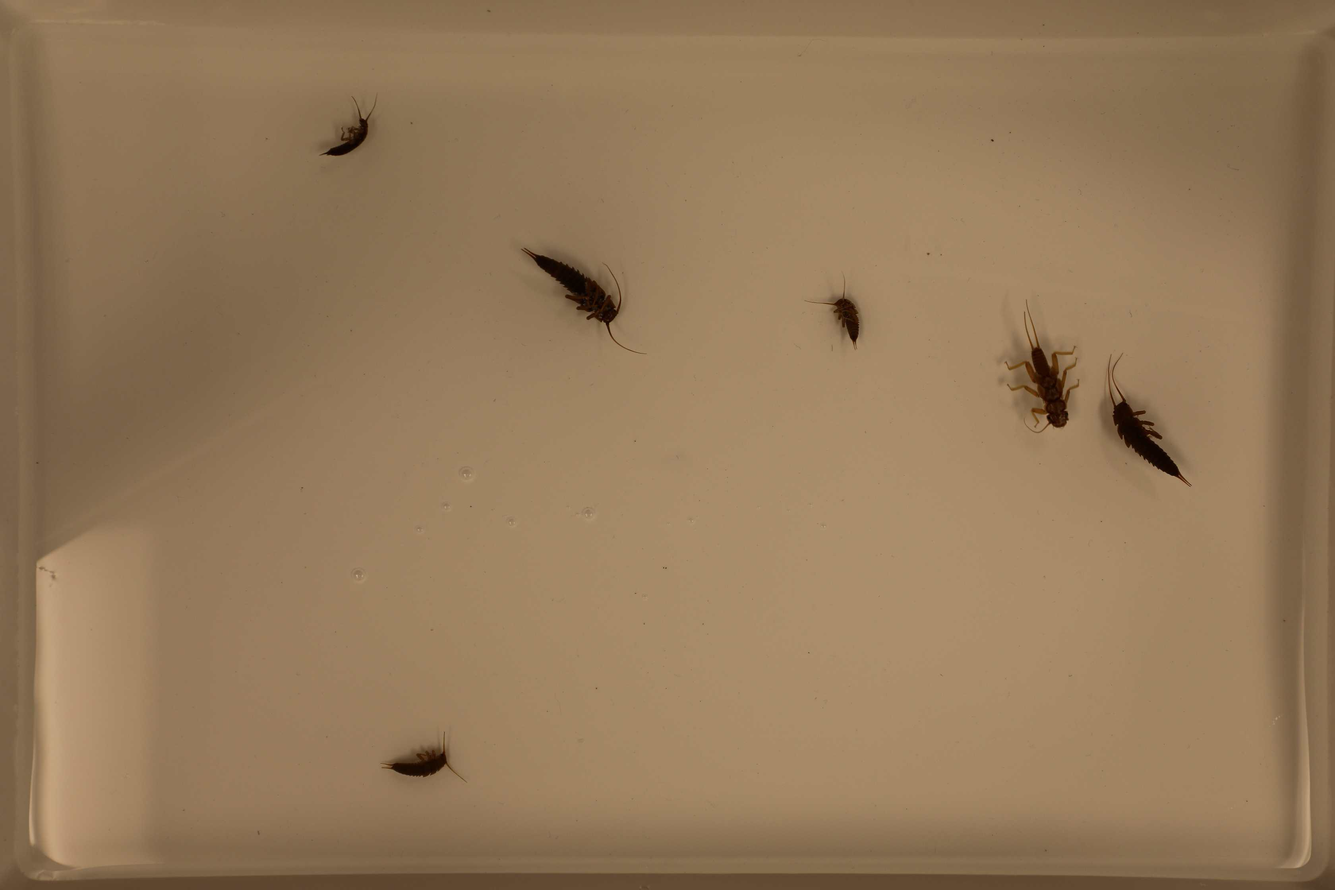Stonefly: (522, 246, 647, 360), (1100, 358, 1197, 495), (996, 299, 1082, 434), (801, 272, 865, 363), (378, 727, 464, 788), (319, 92, 380, 165)
